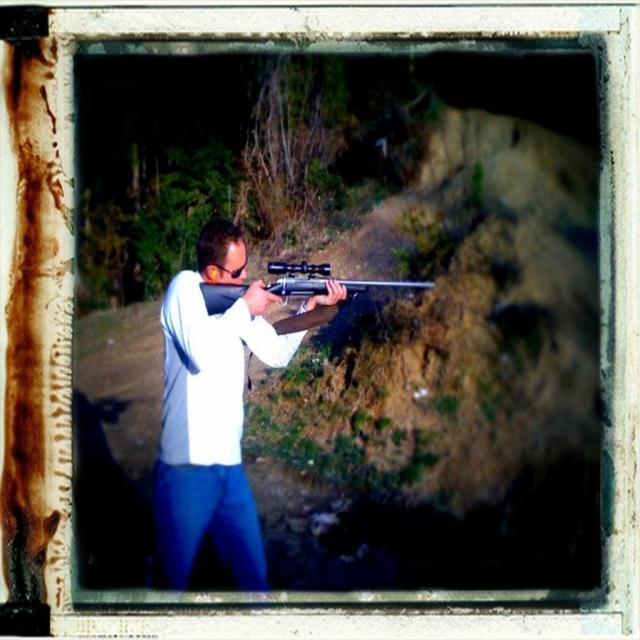weapon: (199, 262, 435, 312)
